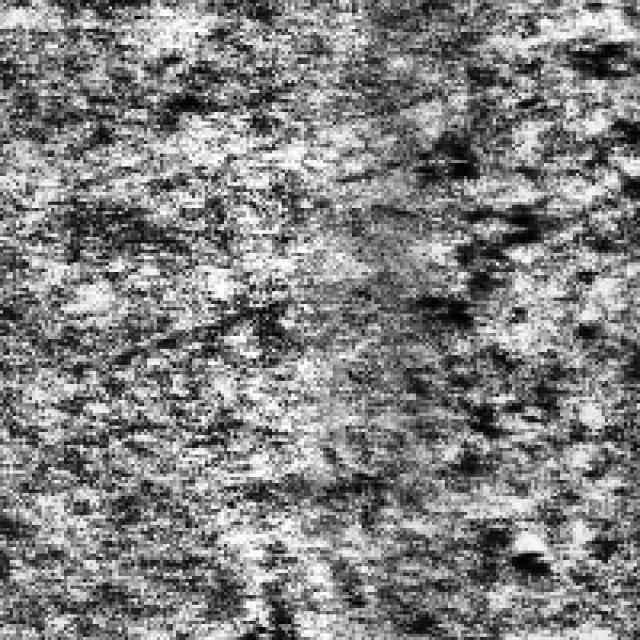Crazing: (390, 121, 534, 432)
